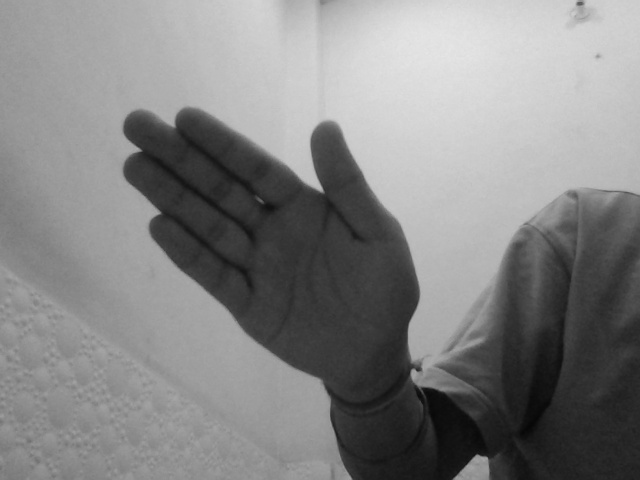Hello: (112, 107, 426, 396)
